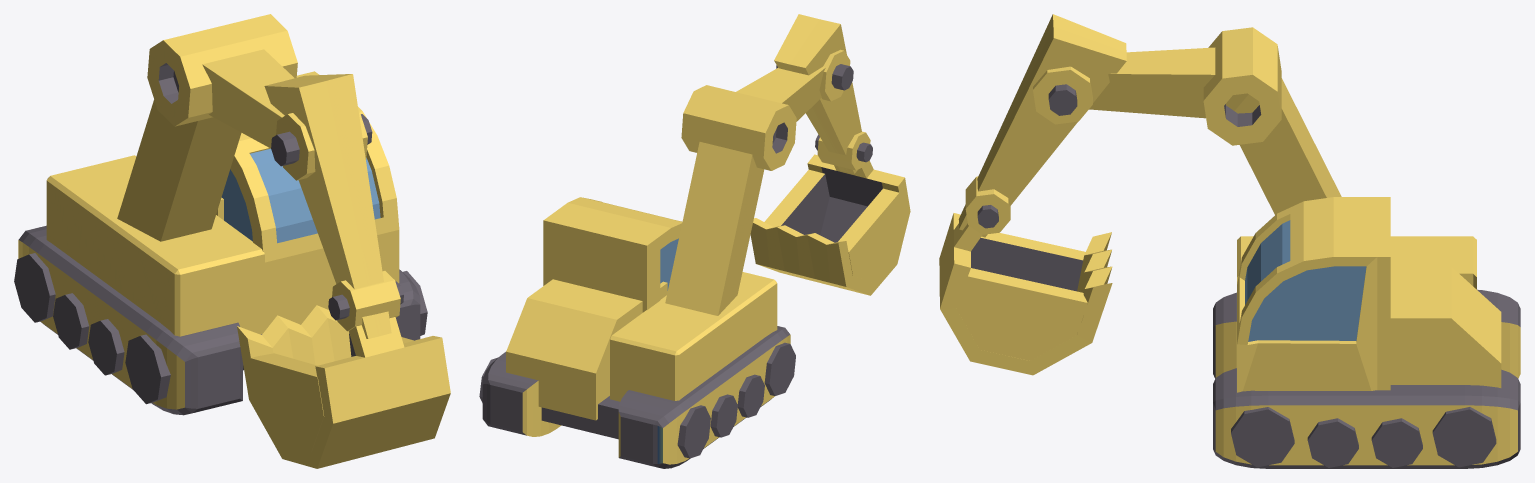
The model's file is Tractor_veh.fbx.
The picture shows the model from 3 angles, left to right: view 1: azimuth 30°, elevation 25°; view 2: azimuth 150°, elevation 25°; view 3: azimuth 270°, elevation 25°; orthographic projection. The views are drawn at different scales.
Visible parts, largest first — view 1: Cylinder.005, Cube.002, Cube.004, Cube.005, Cube.001, Track_1, Cylinder.001, Cylinder.002, glass, Cube, Cylinder.003, Cylinder; view 2: Cube.001, Cylinder.005, Cube.004, Cube.002, Track_1, Cylinder.001, Cube.005, Cylinder.002, Cube, Cube.003, Cylinder.003, Cylinder (+1 smaller); view 3: Cube.001, Cylinder.005, Cube.004, Cube, Cube.005, Cylinder.002, Track_1, glass, Cylinder.001, Cube.002, Cylinder, Cylinder.003.
Boxes of the visible parts, bbox=[...] form: Cylinder.005: bbox=[237, 305, 450, 468]; Cube.002: bbox=[46, 155, 264, 336]; Cube.004: bbox=[117, 49, 294, 241]; Cube.005: bbox=[264, 74, 391, 338]; Cube.001: bbox=[216, 71, 399, 330]; Track_1: bbox=[18, 225, 420, 415]; Cylinder.001: bbox=[147, 14, 297, 126]; Cylinder.002: bbox=[14, 253, 427, 404]; glass: bbox=[221, 148, 380, 243]; Cube: bbox=[18, 240, 184, 409]; Cylinder.003: bbox=[328, 271, 403, 331]; Cylinder: bbox=[271, 111, 372, 180]; Cube.001: bbox=[506, 197, 682, 420]; Cylinder.005: bbox=[750, 154, 910, 295]; Cube.004: bbox=[665, 66, 825, 315]; Cube.002: bbox=[610, 272, 777, 401]; Track_1: bbox=[482, 326, 789, 468]; Cylinder.001: bbox=[681, 85, 796, 170]; Cube.005: bbox=[774, 14, 861, 173]; Cylinder.002: bbox=[479, 342, 795, 458]; Cube: bbox=[522, 334, 790, 464]; Cube.003: bbox=[541, 396, 620, 439]; Cylinder.003: bbox=[815, 131, 872, 170]; Cylinder: bbox=[776, 49, 853, 101]; Cube.001: bbox=[1237, 197, 1501, 392]; Cylinder.005: bbox=[939, 213, 1112, 375]; Cube.004: bbox=[1089, 47, 1341, 214]; Cube: bbox=[1215, 321, 1520, 465]; Cube.005: bbox=[958, 14, 1126, 237]; Cylinder.002: bbox=[1231, 407, 1496, 467]; Track_1: bbox=[1213, 289, 1520, 468]; glass: bbox=[1245, 220, 1366, 341]; Cylinder.001: bbox=[1203, 27, 1281, 145]; Cube.002: bbox=[1237, 236, 1476, 289]; Cylinder: bbox=[1033, 66, 1092, 124]; Cylinder.003: bbox=[965, 176, 1010, 234].
Size of the model in its own units: 246 by 345 by 505.
Materials: 4 (4 with a texture image).
